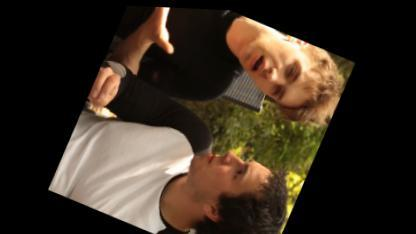knife: (170, 6, 238, 28)
